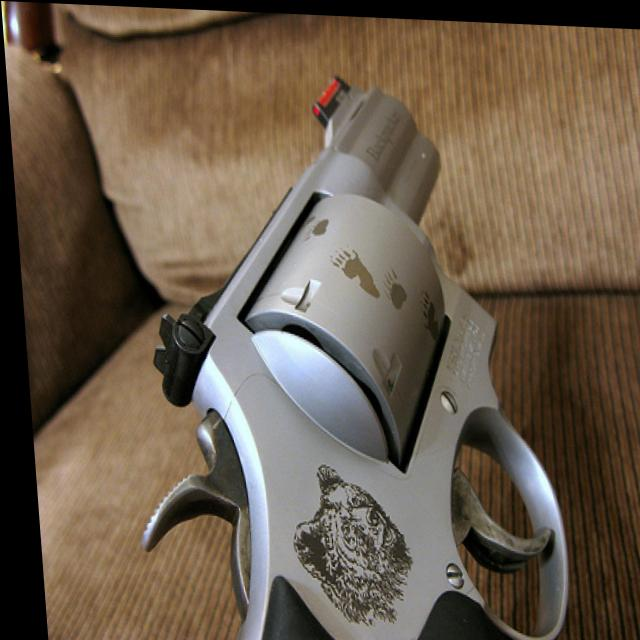handgun: (95, 65, 564, 640)
